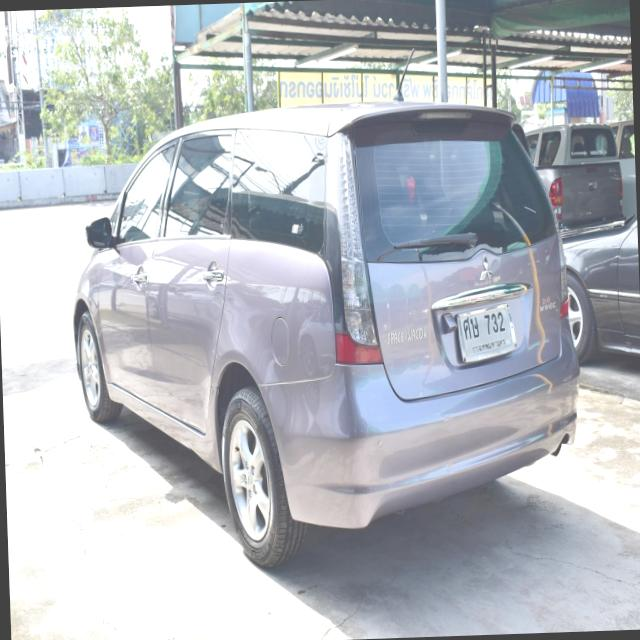license_plate: (454, 293, 519, 367)
